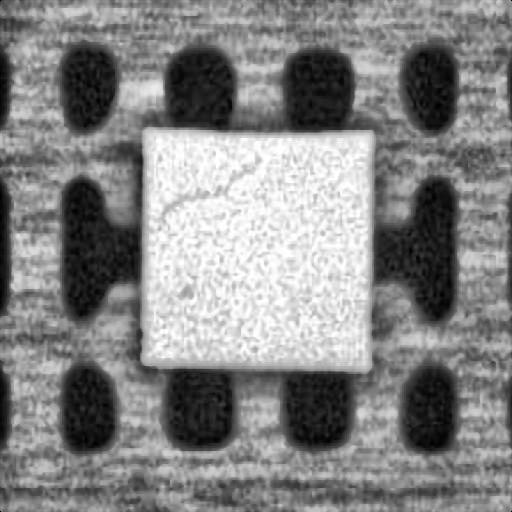DIE_CRACK: (150, 157, 258, 220)
